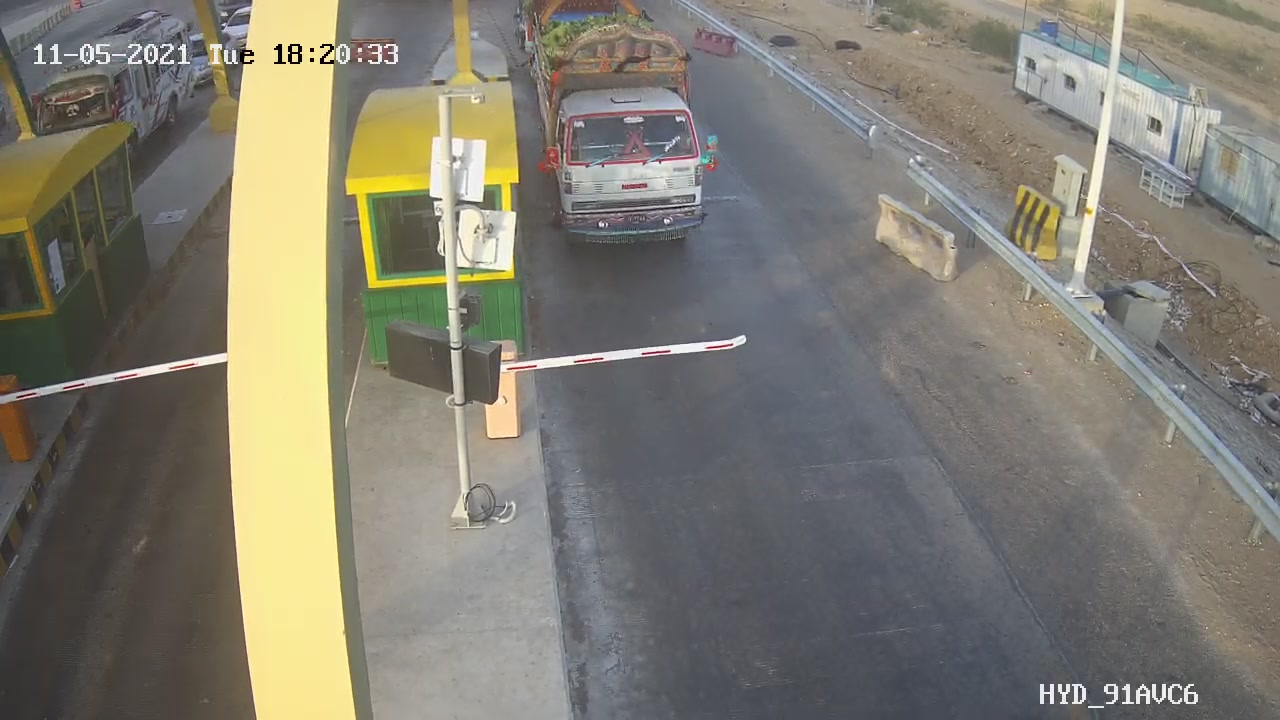F5: (527, 14, 732, 254)
